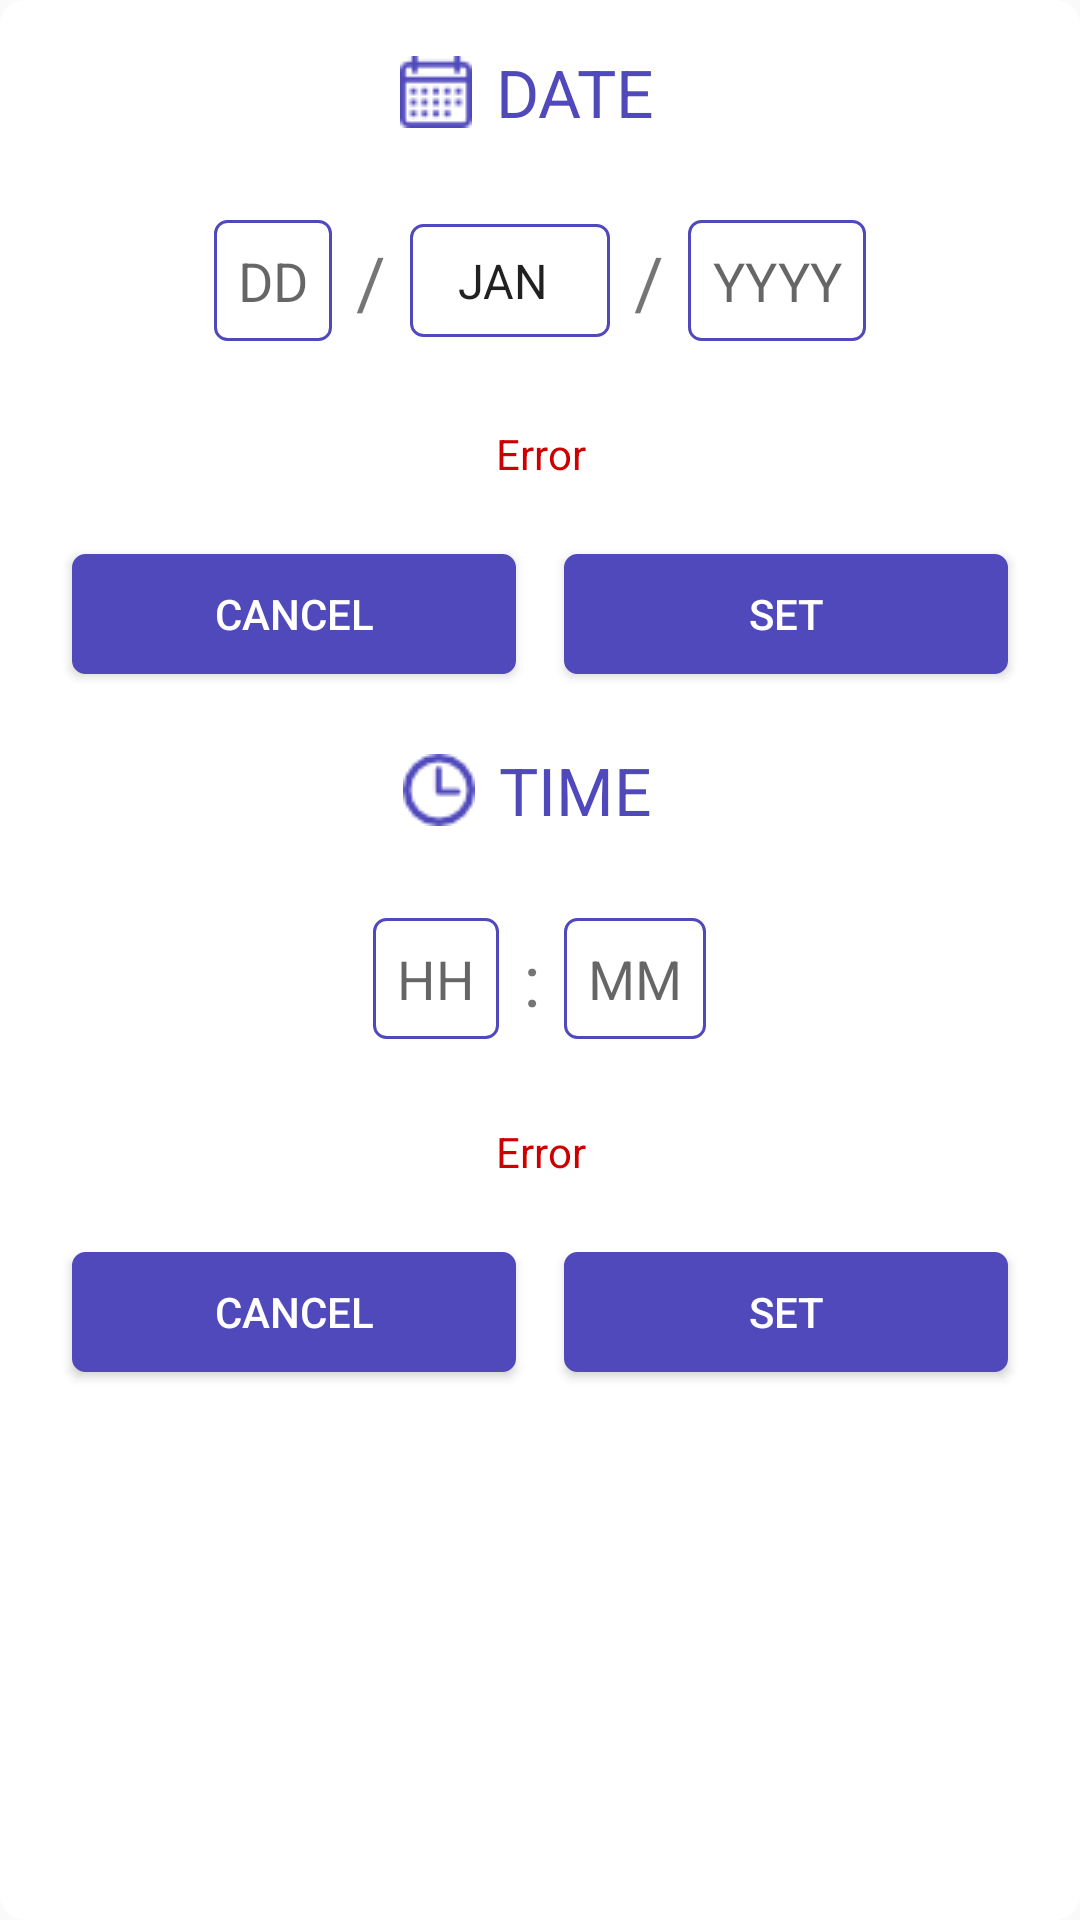

Named icons in this screenshot (1080px x 1920px) and their bounding boxes, (x1, y1, x2, y2):
calendar: (400, 56, 472, 128)
clock: (403, 754, 475, 826)
